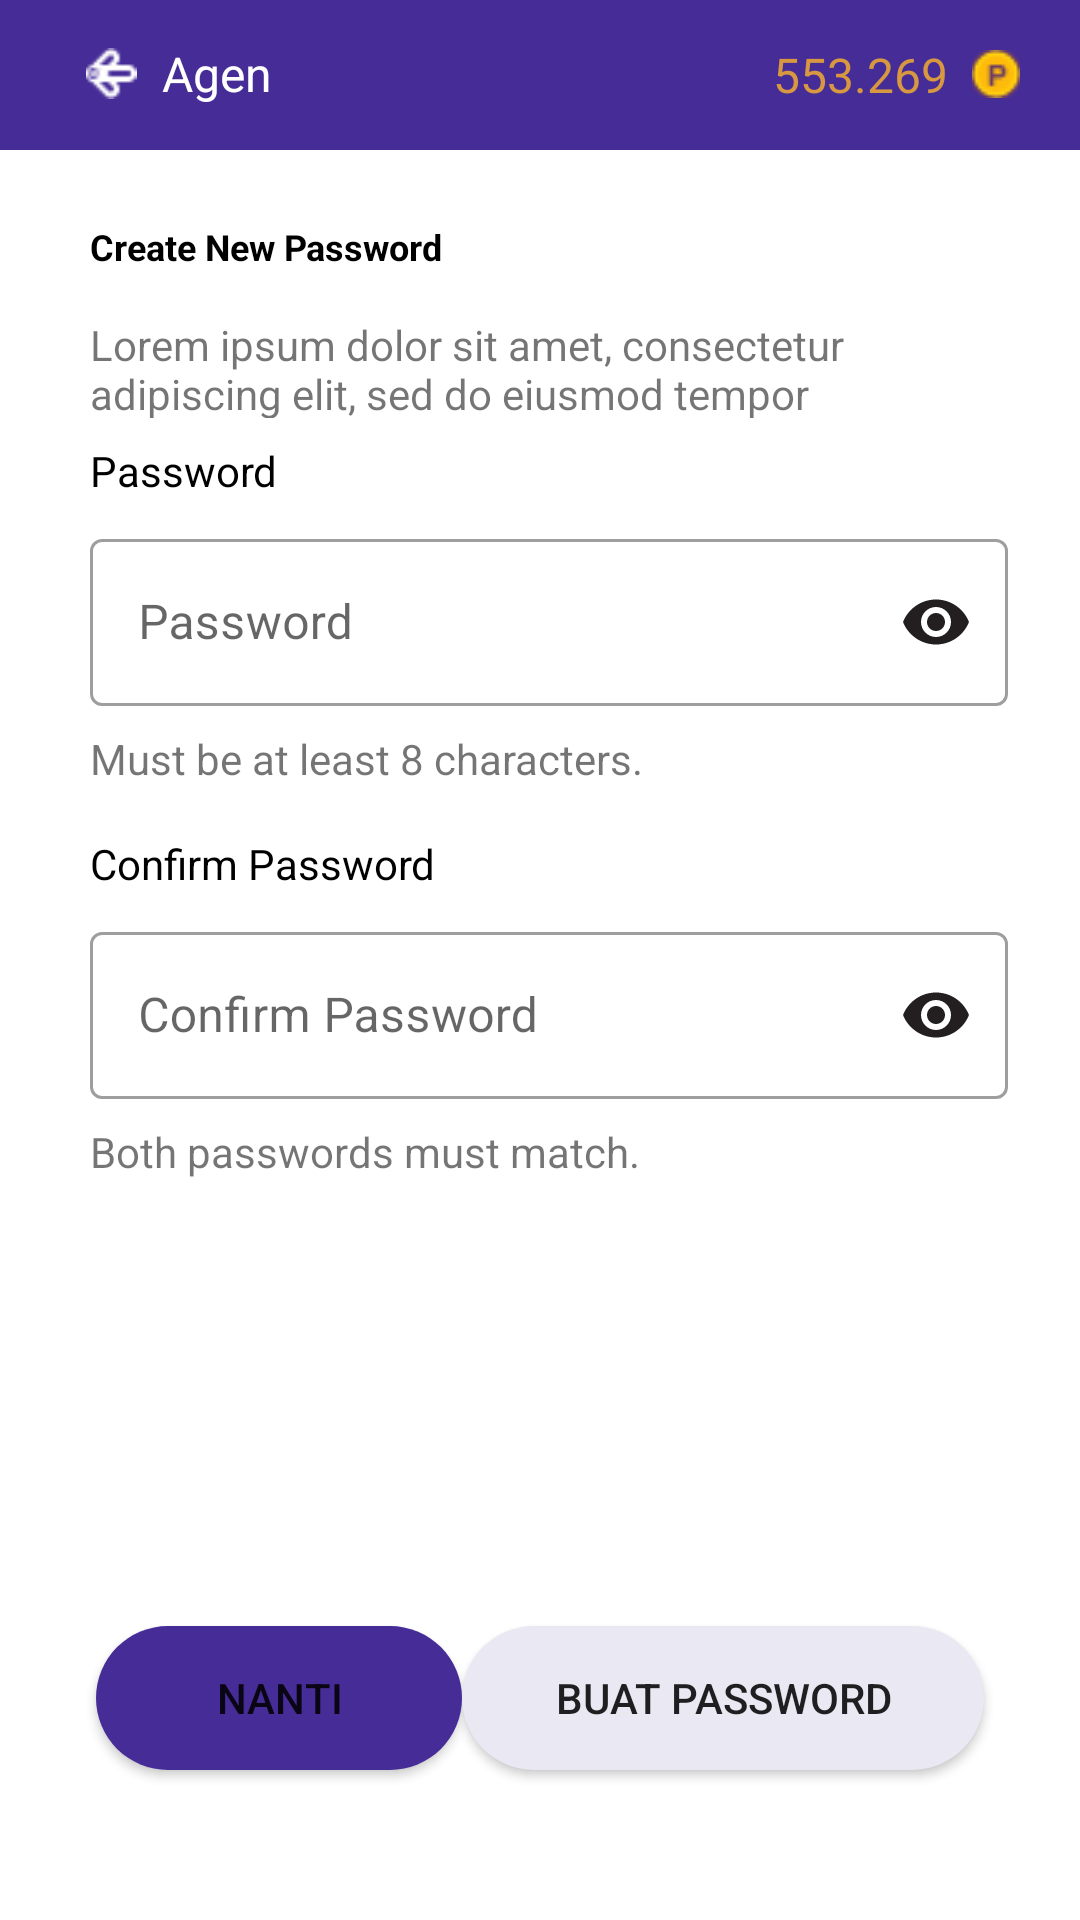

Icon click points for this 1080 x 1920 phone screenshot, format [x,y]:
back: [111,73]
coin: [996,74]
